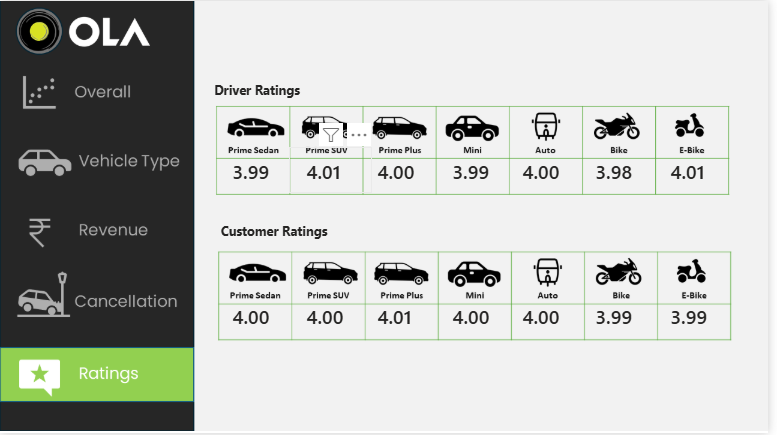

What the dashboard file says about the page in this screenshot:
{"tool":"powerbi","page":{"name":"Ratings","canvas":[1280,720],"ordinal":4},"visuals":[{"type":"actionButton","box":[0,230.4,324,90.7],"z":0},{"type":"actionButton","box":[0,348.5,324,90.7],"z":1000},{"type":"actionButton","box":[0,450.7,324,90.7],"z":2000},{"type":"actionButton","box":[0,110.9,324,90.7],"z":3000},{"type":"cardVisual","fields":{"Data":["Avg(July.Driver_Ratings)"]},"box":[358.3,243.3,138.3,76.7],"z":3001},{"type":"cardVisual","fields":{"Data":["Avg(July.Driver_Ratings)"]},"box":[481.7,243.3,138.3,76.7],"z":3002},{"type":"cardVisual","fields":{"Data":["Avg(July.Driver_Ratings)"]},"box":[600,243.3,138.3,76.7],"z":3003},{"type":"cardVisual","fields":{"Data":["Avg(July.Driver_Ratings)"]},"box":[725,243.3,138.3,76.7],"z":3004},{"type":"cardVisual","fields":{"Data":["Avg(July.Driver_Ratings)"]},"box":[841.7,243.3,138.3,76.7],"z":3005},{"type":"cardVisual","fields":{"Data":["Avg(July.Driver_Ratings)"]},"box":[963.3,243.3,138.3,76.7],"z":3006},{"type":"cardVisual","fields":{"Data":["Avg(July.Driver_Ratings)"]},"box":[1088.3,243.3,138.3,76.7],"z":3007},{"type":"textbox","box":[285,128.3,286.7,86.7],"z":3008},{"type":"textbox","box":[313.3,363.3,286.7,86.7],"z":3009},{"type":"cardVisual","fields":{"Data":["Avg(July.Customer_Rating)"]},"box":[358.3,485,138.3,76.7],"z":3010},{"type":"cardVisual","fields":{"Data":["Avg(July.Customer_Rating)"]},"box":[481.7,485,138.3,76.7],"z":3011},{"type":"cardVisual","fields":{"Data":["Avg(July.Customer_Rating)"]},"box":[600,485,138.3,76.7],"z":3012},{"type":"cardVisual","fields":{"Data":["Avg(July.Customer_Rating)"]},"box":[725,485,138.3,76.7],"z":3013},{"type":"cardVisual","fields":{"Data":["Avg(July.Customer_Rating)"]},"box":[841.7,485,138.3,76.7],"z":3014},{"type":"cardVisual","fields":{"Data":["Avg(July.Customer_Rating)"]},"box":[963.3,485,138.3,76.7],"z":3015},{"type":"cardVisual","fields":{"Data":["Avg(July.Customer_Rating)"]},"box":[1088.3,485,138.3,76.7],"z":3016}]}

Visuals, with their boxes on the page's 1280x720 design canvas (x1, y1, x2, y2). These are canvas units, not pixel positions in the 777x435 screenshot, which may show the page scaled, cropped or inside an application window:
actionButton: {"x1": 0, "y1": 230, "x2": 324, "y2": 321}
actionButton: {"x1": 0, "y1": 348, "x2": 324, "y2": 439}
actionButton: {"x1": 0, "y1": 451, "x2": 324, "y2": 541}
actionButton: {"x1": 0, "y1": 111, "x2": 324, "y2": 202}
cardVisual - Avg(July.Driver_Ratings): {"x1": 358, "y1": 243, "x2": 497, "y2": 320}
cardVisual - Avg(July.Driver_Ratings): {"x1": 482, "y1": 243, "x2": 620, "y2": 320}
cardVisual - Avg(July.Driver_Ratings): {"x1": 600, "y1": 243, "x2": 738, "y2": 320}
cardVisual - Avg(July.Driver_Ratings): {"x1": 725, "y1": 243, "x2": 863, "y2": 320}
cardVisual - Avg(July.Driver_Ratings): {"x1": 842, "y1": 243, "x2": 980, "y2": 320}
cardVisual - Avg(July.Driver_Ratings): {"x1": 963, "y1": 243, "x2": 1102, "y2": 320}
cardVisual - Avg(July.Driver_Ratings): {"x1": 1088, "y1": 243, "x2": 1227, "y2": 320}
textbox: {"x1": 285, "y1": 128, "x2": 572, "y2": 215}
textbox: {"x1": 313, "y1": 363, "x2": 600, "y2": 450}
cardVisual - Avg(July.Customer_Rating): {"x1": 358, "y1": 485, "x2": 497, "y2": 562}
cardVisual - Avg(July.Customer_Rating): {"x1": 482, "y1": 485, "x2": 620, "y2": 562}
cardVisual - Avg(July.Customer_Rating): {"x1": 600, "y1": 485, "x2": 738, "y2": 562}
cardVisual - Avg(July.Customer_Rating): {"x1": 725, "y1": 485, "x2": 863, "y2": 562}
cardVisual - Avg(July.Customer_Rating): {"x1": 842, "y1": 485, "x2": 980, "y2": 562}
cardVisual - Avg(July.Customer_Rating): {"x1": 963, "y1": 485, "x2": 1102, "y2": 562}
cardVisual - Avg(July.Customer_Rating): {"x1": 1088, "y1": 485, "x2": 1227, "y2": 562}
